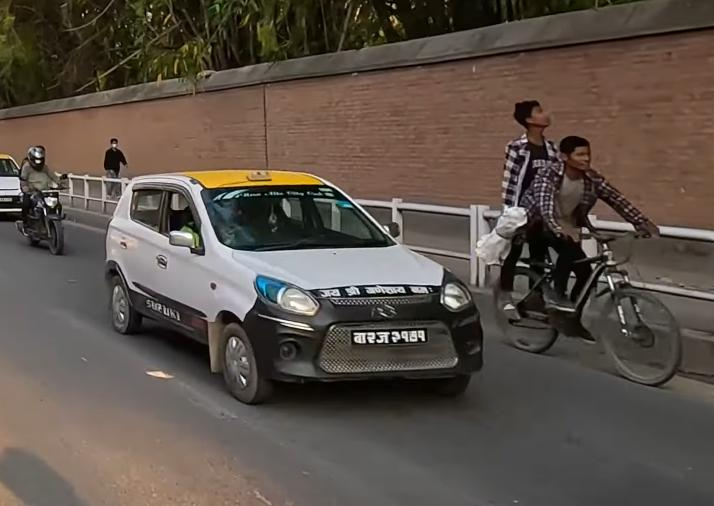bike: (14, 172, 75, 259)
taxi: (102, 167, 497, 412), (0, 152, 32, 225)
